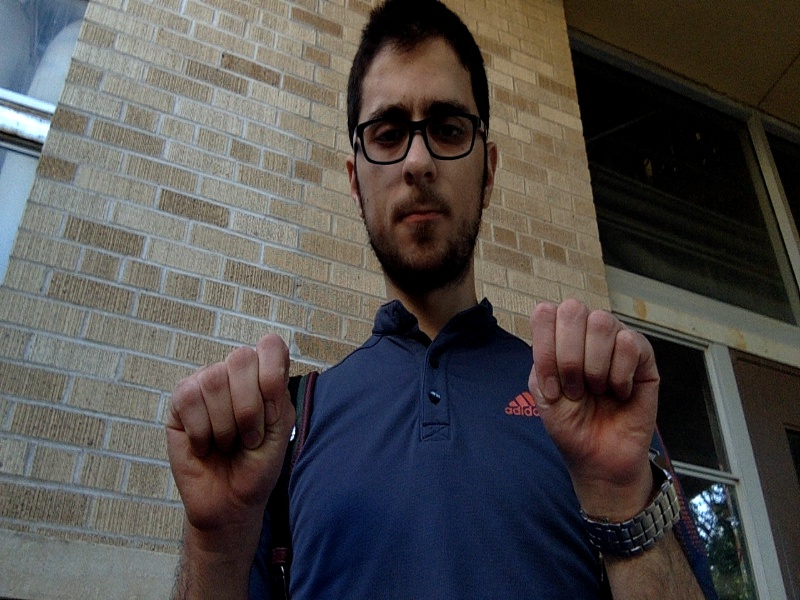0-hand: (529, 298, 659, 484), (167, 337, 294, 520)
